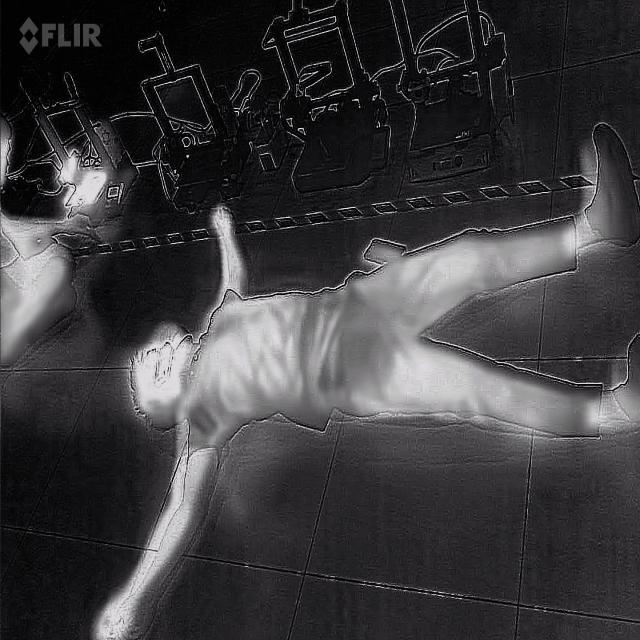Victim: (90, 109, 640, 637), (0, 104, 99, 372)
